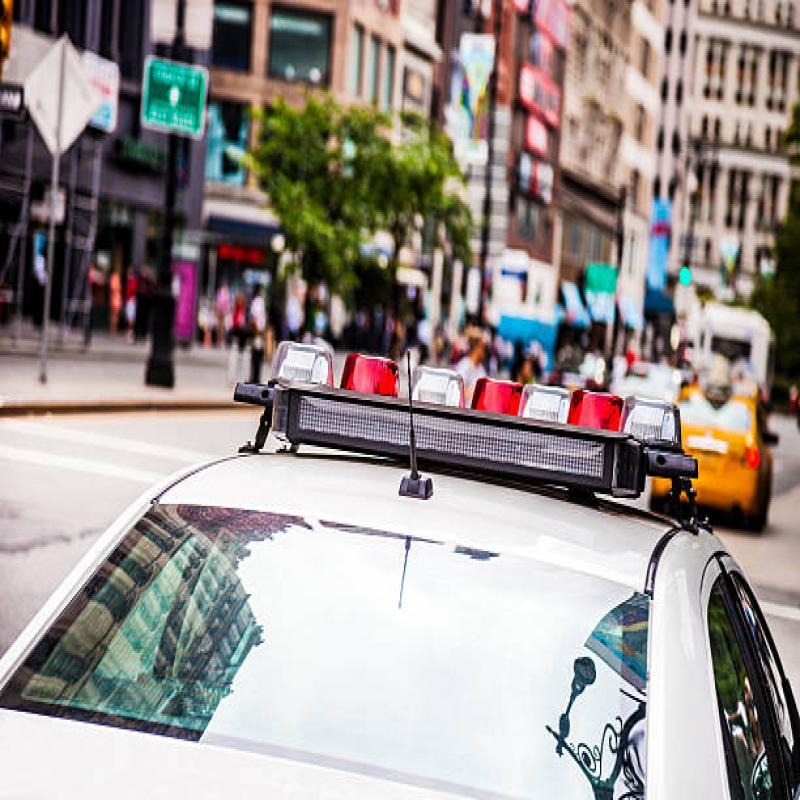AmbulanceSiren: (258, 314, 691, 534)
